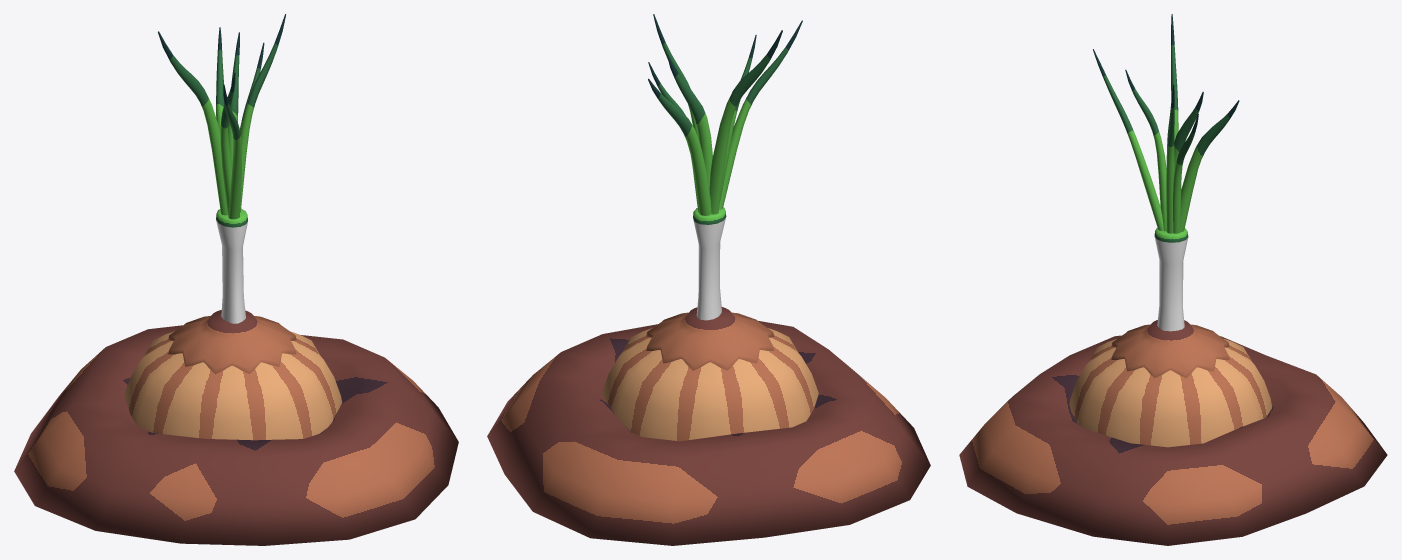
Rendered from Cebolla_Madura.fbx.
3 renders of one model, left to right at view 1: azimuth 30°, elevation 25°; view 2: azimuth 150°, elevation 25°; view 3: azimuth 270°, elevation 25°, orthographic. The views are drawn at different scales.
Visible parts, largest first — view 1: Cebolla_Madura; view 2: Cebolla_Madura; view 3: Cebolla_Madura.
Boxes of the visible parts, bbox=[...] form: Cebolla_Madura: bbox=[14, 14, 458, 545]; Cebolla_Madura: bbox=[487, 14, 930, 545]; Cebolla_Madura: bbox=[959, 14, 1387, 545].
Size of the model in its own units: 150 by 175 by 150.
